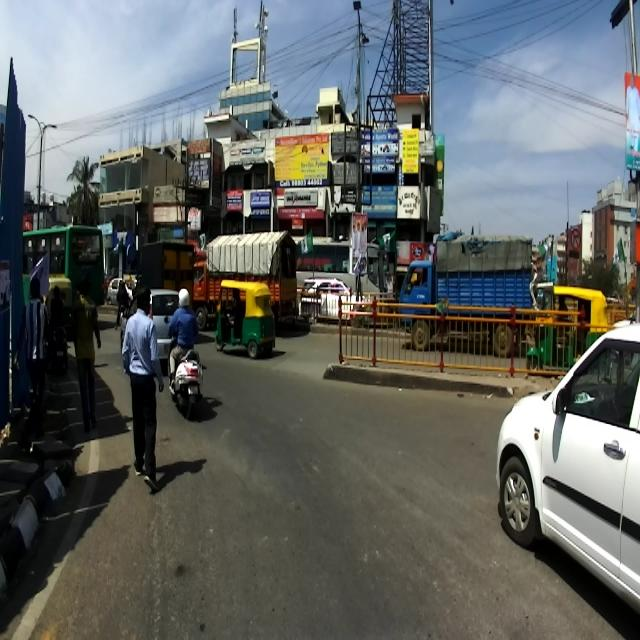autorickshaw: (526, 286, 606, 371), (215, 279, 275, 358)
car: (495, 324, 639, 610), (120, 289, 178, 370)
scooter: (164, 317, 206, 418)
truck: (396, 229, 535, 358), (190, 228, 304, 331)
